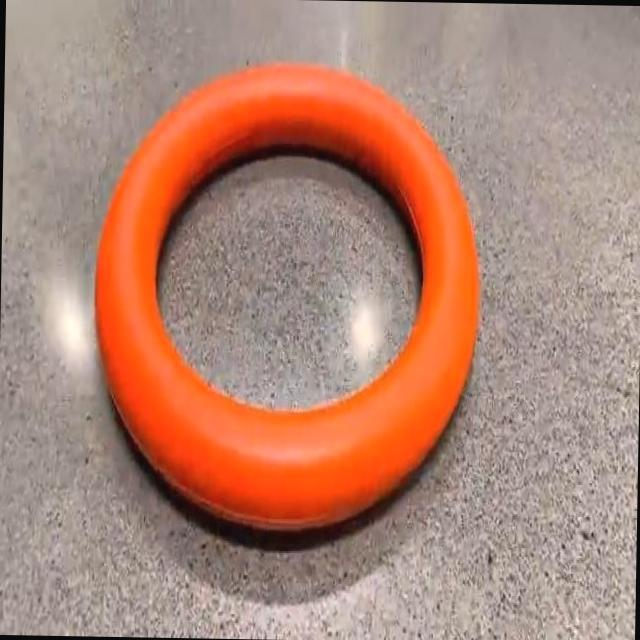note: (95, 64, 477, 528)
